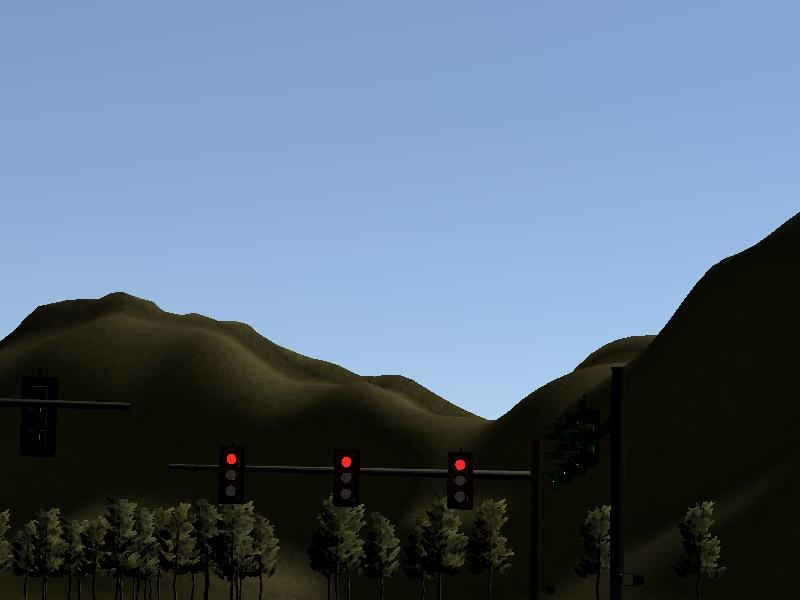RED: (216, 446, 247, 507), (332, 447, 362, 508), (444, 450, 474, 511)
